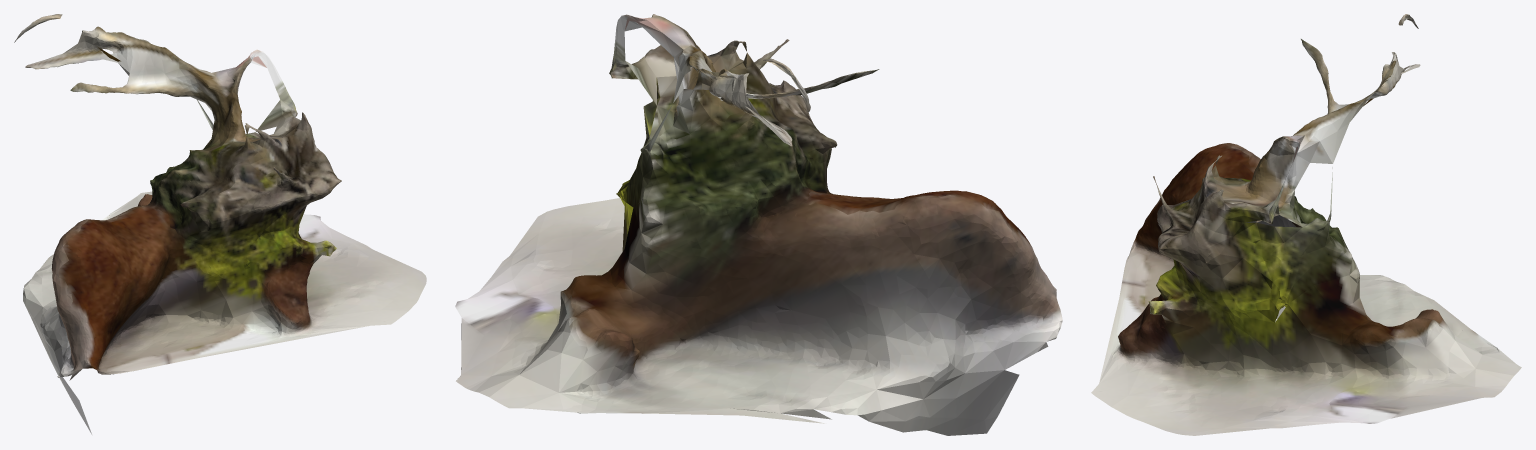
Rendered from Scaniverse 2024-03-27 101607.fbx.
The picture shows the model from 3 angles, left to right: view 1: azimuth 30°, elevation 25°; view 2: azimuth 150°, elevation 25°; view 3: azimuth 270°, elevation 25°; orthographic projection. The views are drawn at different scales.
Visible parts, largest first — view 1: mesh; view 2: mesh; view 3: mesh.
Part boxes in pixels (x1=…): mesh: x1=14, y1=14, x2=426, y2=434; mesh: x1=455, y1=14, x2=1062, y2=435; mesh: x1=1091, y1=14, x2=1521, y2=435.
Size of the model in its own units: 0.1222 by 0.1042 by 0.1123.
1 material, 1 textured.
